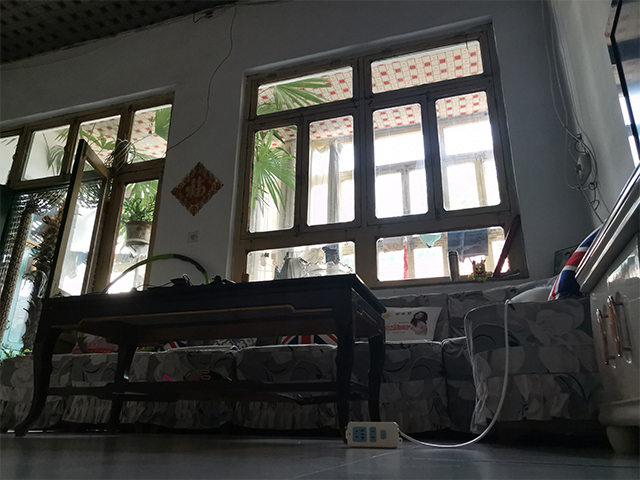cabinet: (571, 162, 640, 457)
sofa: (379, 246, 587, 439)
table: (12, 271, 390, 438)
wire: (342, 408, 500, 449)
